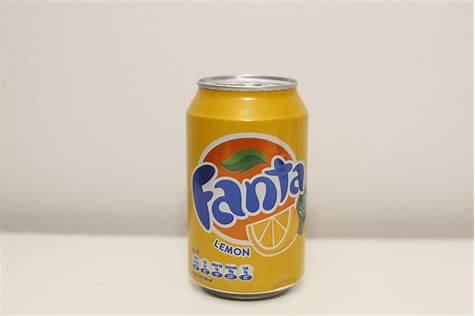metal: (187, 75, 308, 299)
